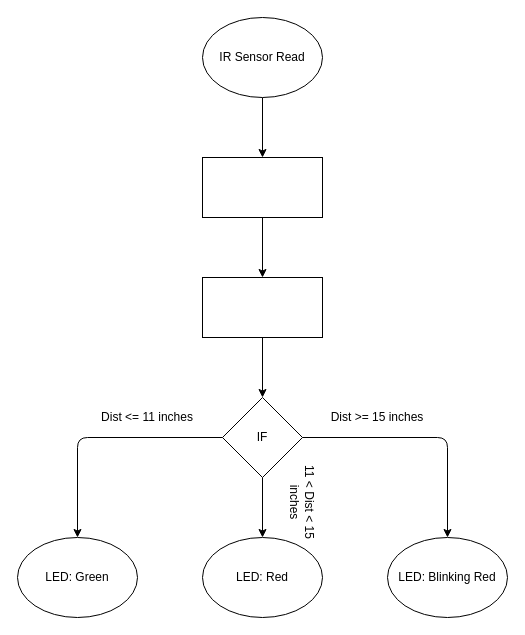
Image size: 525x635. Some labels were removed from this diagram. The box of each missing label's shape, as (x1, y1, x2, y2) in pixels:
Convert Digital to Analog Signal: (202, 156, 322, 218)
Convert Reading into Hopper Content Percentage: (202, 276, 322, 338)
